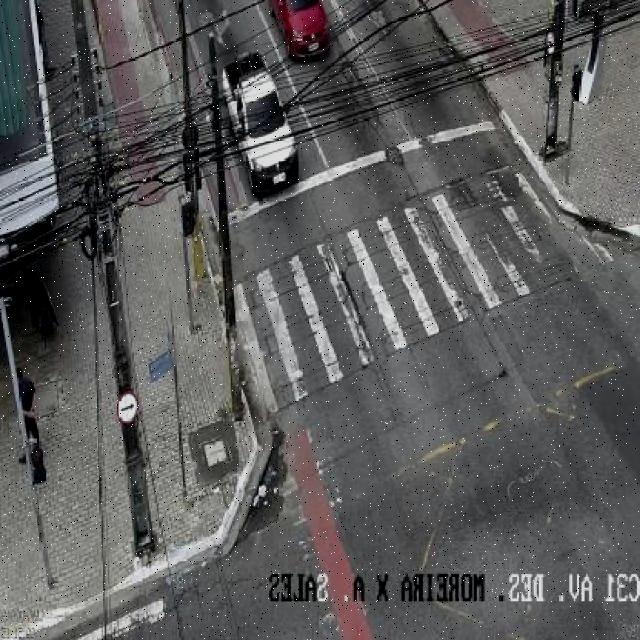Car: (207, 45, 319, 208), (269, 0, 344, 75)
